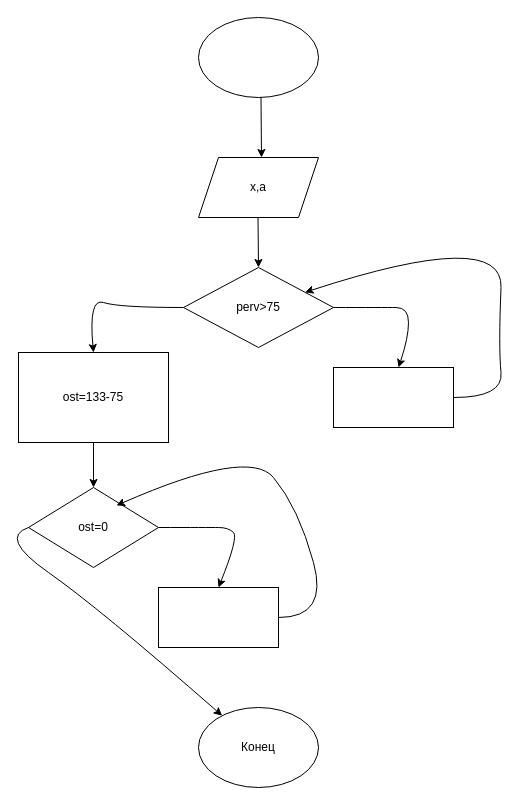
Some shapes in this 519 by 805 pixel diagram are drawn without their labels. The shapes that lost their labels are listed below. From the top down, each one's centre as x and y in pixels, then its label:
At point (258, 57): "Начало".
At point (393, 397): "perv=perv+1 denx=denx+(a/75)".
At point (218, 617): "ost=ost-1 denx=denx+x".
